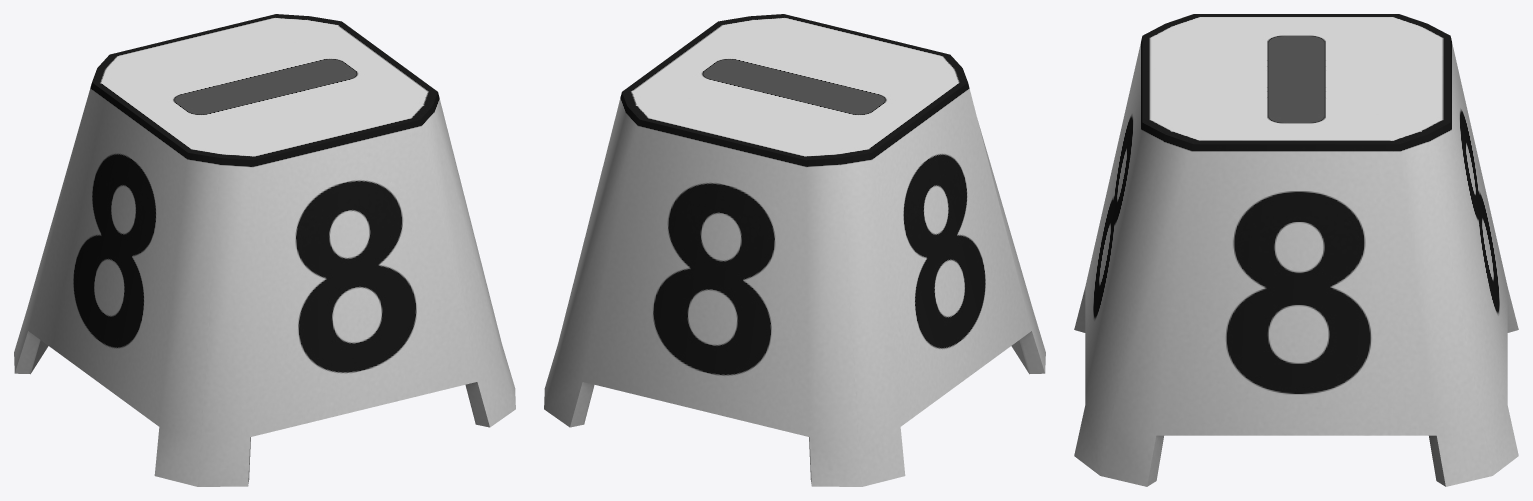
3 views of the same model, side by side, from view 1: azimuth 30°, elevation 25°; view 2: azimuth 150°, elevation 25°; view 3: azimuth 270°, elevation 25° (orthographic). The views are drawn at different scales.
Parts seen in each view (by area): view 1: No_8_Box; view 2: No_8_Box; view 3: No_8_Box.
Boxes of the visible parts, x1=… form: No_8_Box: x1=14, y1=14, x2=515, y2=486; No_8_Box: x1=544, y1=14, x2=1045, y2=486; No_8_Box: x1=1074, y1=14, x2=1518, y2=486.
Size of the model in its own units: 0.4097 by 0.319 by 0.4097.
Materials: 1 (1 with a texture image).
